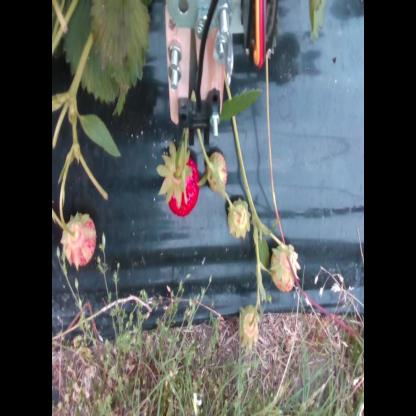ripe: (163, 152, 202, 216)
unripe: (60, 210, 96, 269), (272, 245, 299, 296), (227, 202, 251, 245), (206, 150, 228, 193)
